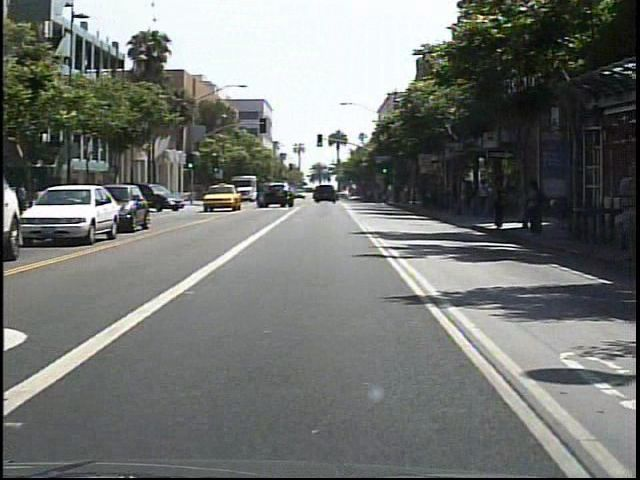person: (493, 164, 517, 233), (525, 177, 549, 242), (480, 177, 495, 217)
